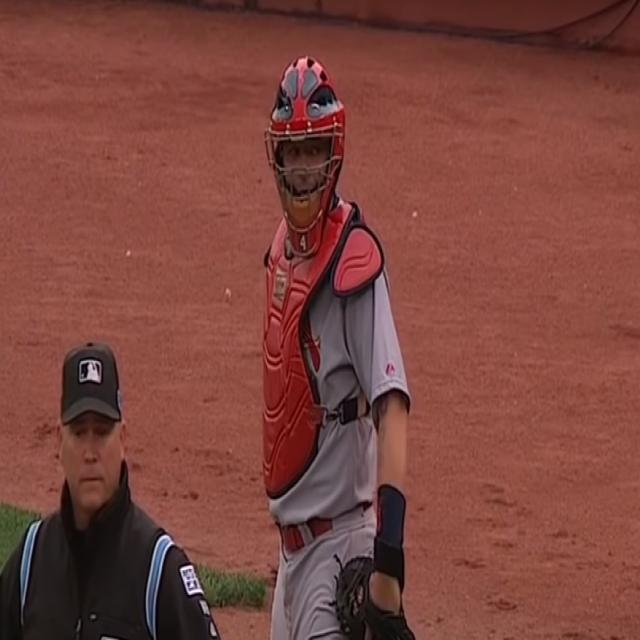hat: (59, 348, 120, 426)
helmet: (267, 61, 345, 234)
